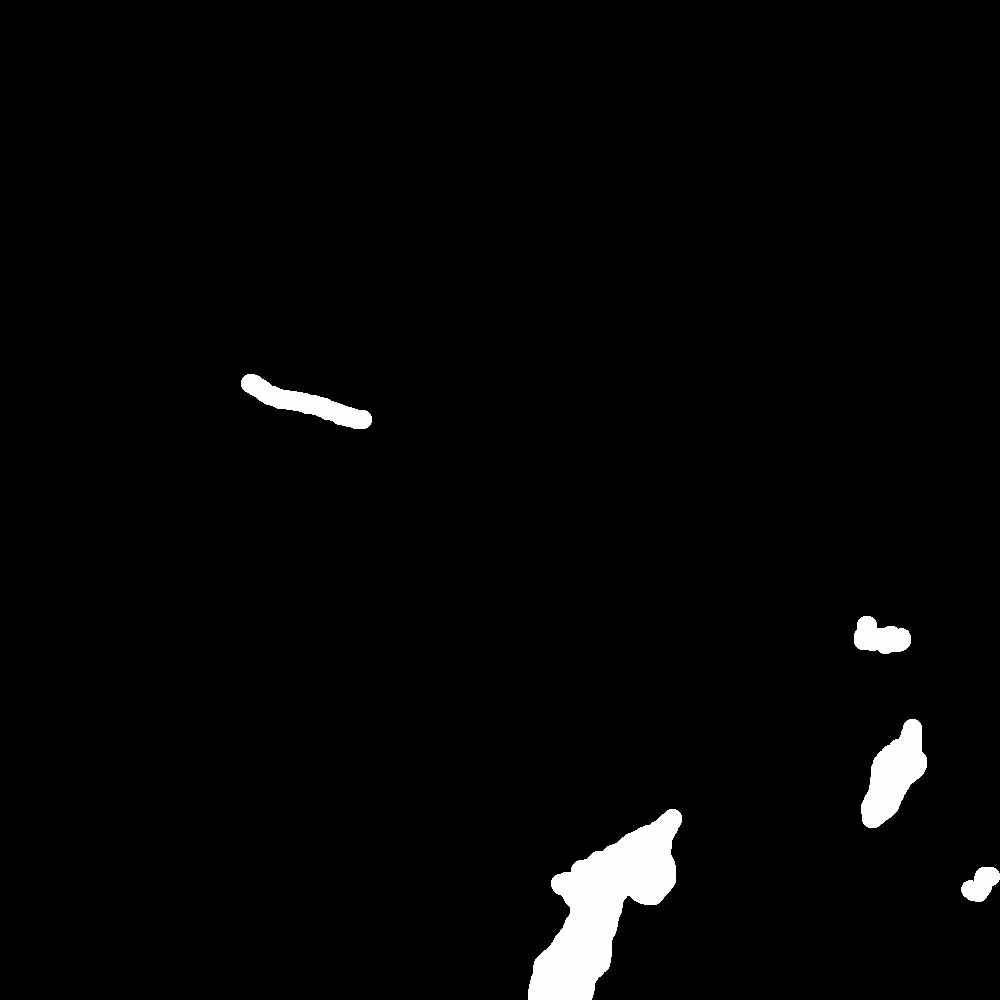illegal: (530, 820, 674, 1000), (732, 799, 801, 999), (862, 692, 947, 834), (911, 869, 998, 916)
